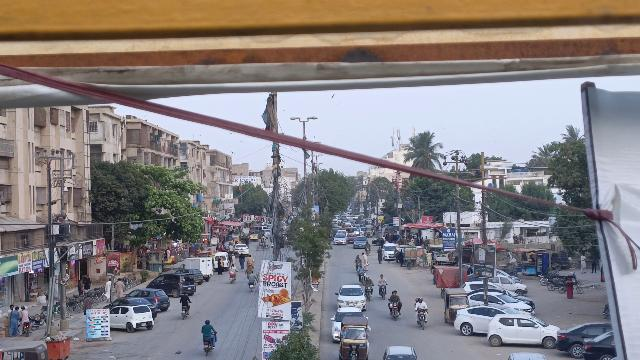Bike: (415, 309, 428, 331), (202, 336, 216, 356), (388, 301, 401, 321), (179, 304, 191, 323), (363, 283, 375, 301), (19, 322, 33, 337), (378, 283, 389, 300), (227, 275, 236, 287)
Car: (486, 311, 560, 349), (453, 306, 517, 337), (556, 321, 610, 357), (109, 304, 156, 332), (144, 273, 197, 297), (126, 287, 171, 312), (579, 330, 615, 360), (332, 283, 368, 311), (382, 344, 418, 360), (329, 307, 342, 343)
Person: (8, 305, 20, 337), (200, 316, 218, 337), (103, 276, 115, 301), (81, 293, 95, 313), (388, 288, 403, 306), (17, 305, 32, 322), (115, 276, 125, 300), (179, 288, 192, 306), (373, 246, 385, 265), (414, 296, 429, 311), (361, 250, 370, 273), (228, 262, 238, 278), (363, 274, 375, 287), (377, 273, 388, 286)
Rickshaw: (336, 315, 373, 360), (441, 287, 471, 323)
